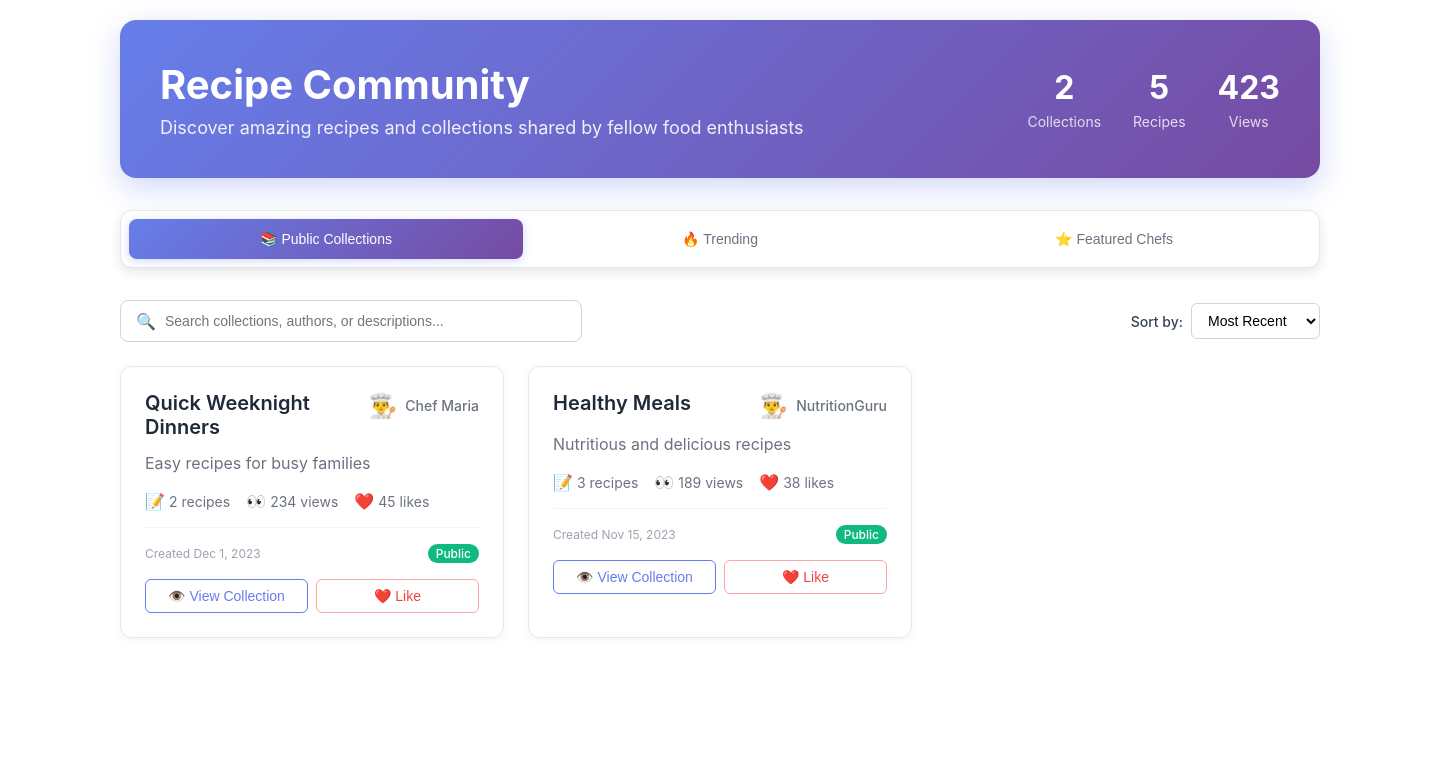
Test: Community Component › Trending Tab › should show trending collections ranked by popularity
Click the button "🔥 Trending".
click(720, 239)  # box [523,219,917,259]
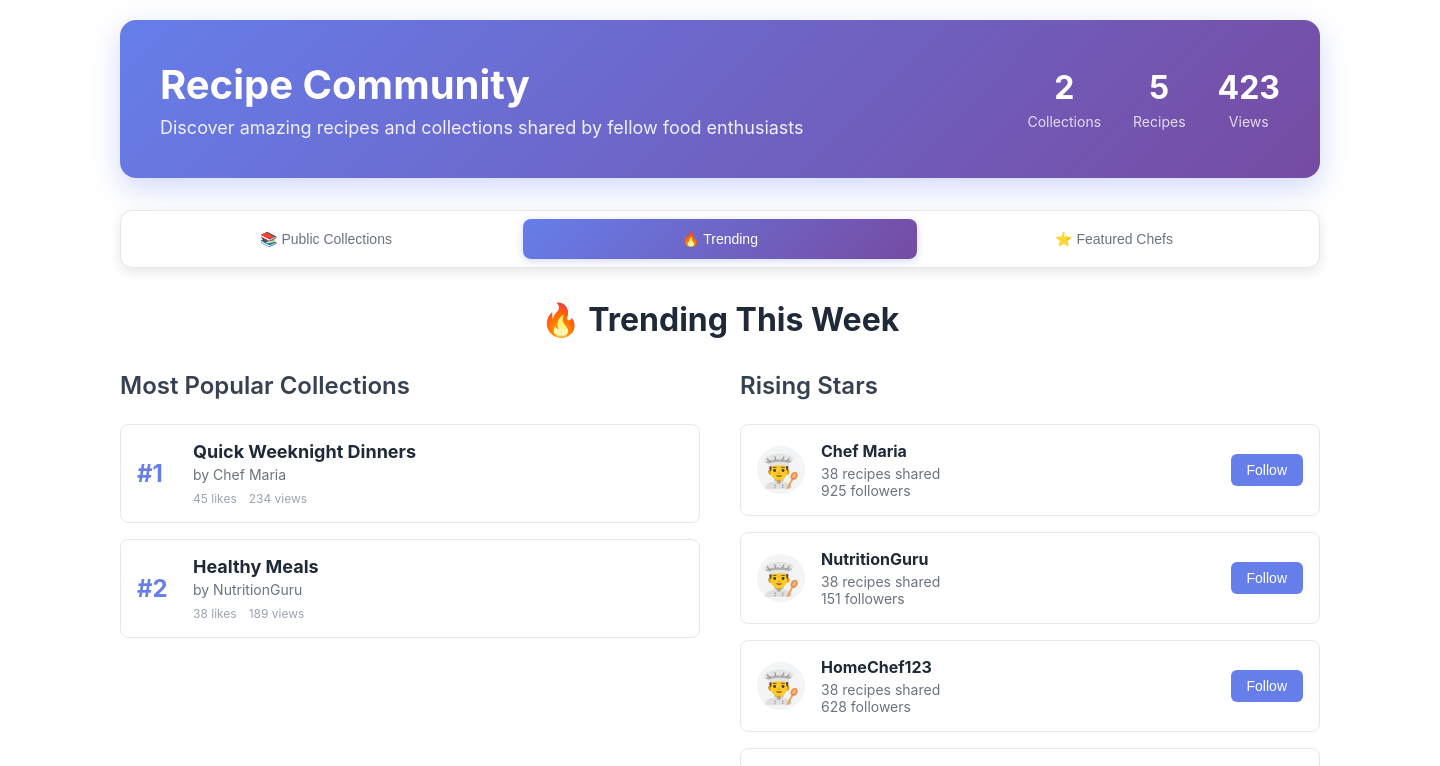
Check: the text "#1" is shown, box [137,459,163,488]
Check: the text "#2" is shown, box [137,574,168,603]
